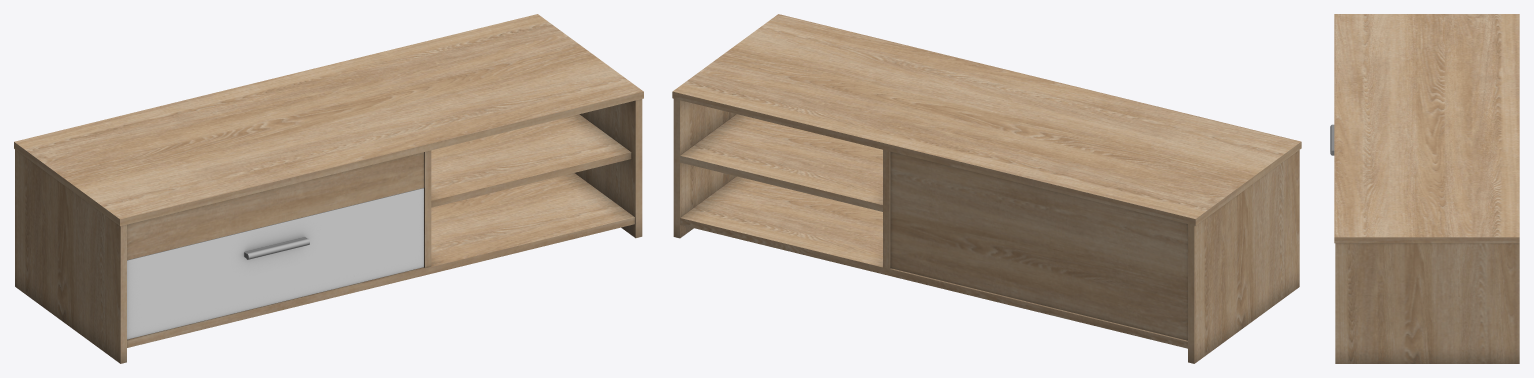
3 renders of one model, left to right at view 1: azimuth 30°, elevation 25°; view 2: azimuth 150°, elevation 25°; view 3: azimuth 270°, elevation 25°, orthographic. The views are drawn at different scales.
Size of the model in its own units: 120 by 31.8 by 42.99.
Materials: 3 (3 with a texture image).
